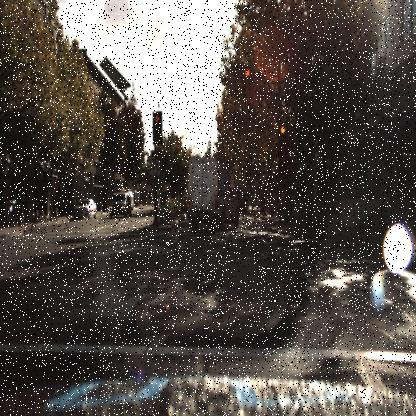car: (187, 147, 240, 233), (73, 193, 98, 220), (106, 193, 134, 217), (74, 196, 99, 221)
trafficLight: (244, 65, 251, 89)
trafficLight-Red: (279, 126, 287, 149)
trafficLight-RedLeft: (154, 111, 162, 141)
